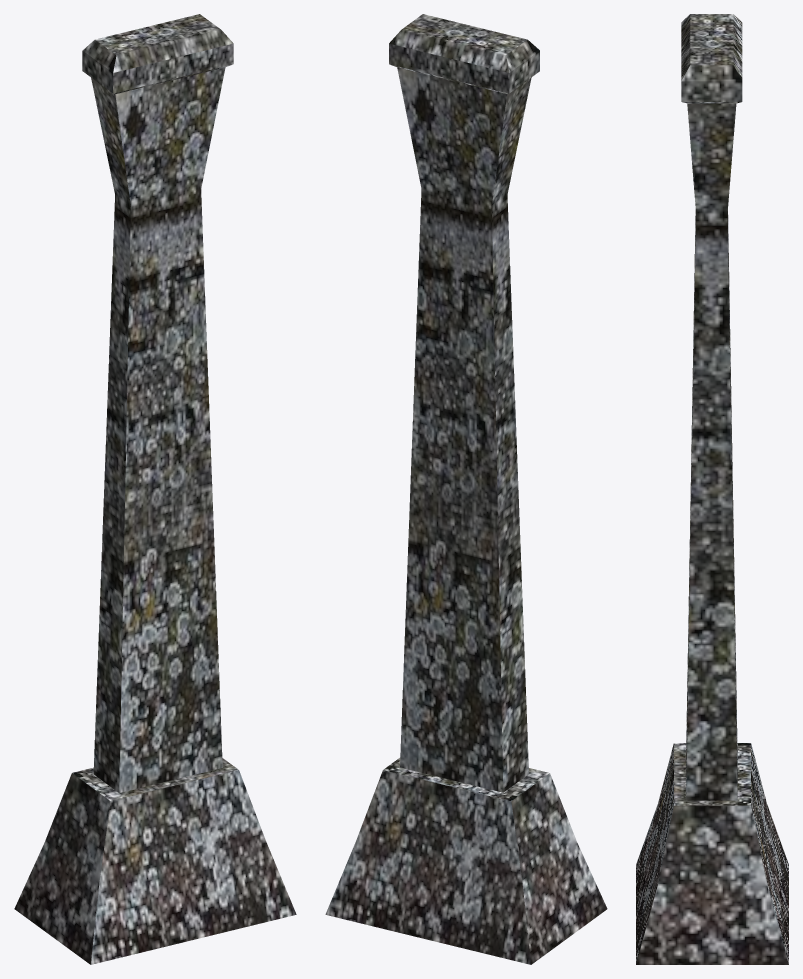
File: poteau.FBX
3 views of the same model, side by side, from view 1: azimuth 30°, elevation 25°; view 2: azimuth 150°, elevation 25°; view 3: azimuth 270°, elevation 25° (orthographic).
Visible parts, largest first — view 1: Box002; view 2: Box002; view 3: Box002.
Boxes of the visible parts, bbox=[...] form: Box002: bbox=[14, 14, 296, 964]; Box002: bbox=[325, 14, 607, 964]; Box002: bbox=[636, 14, 788, 964].
Bounding box in the file's own units: 30.34 × 123 × 19.51.
1 material, 1 textured.
